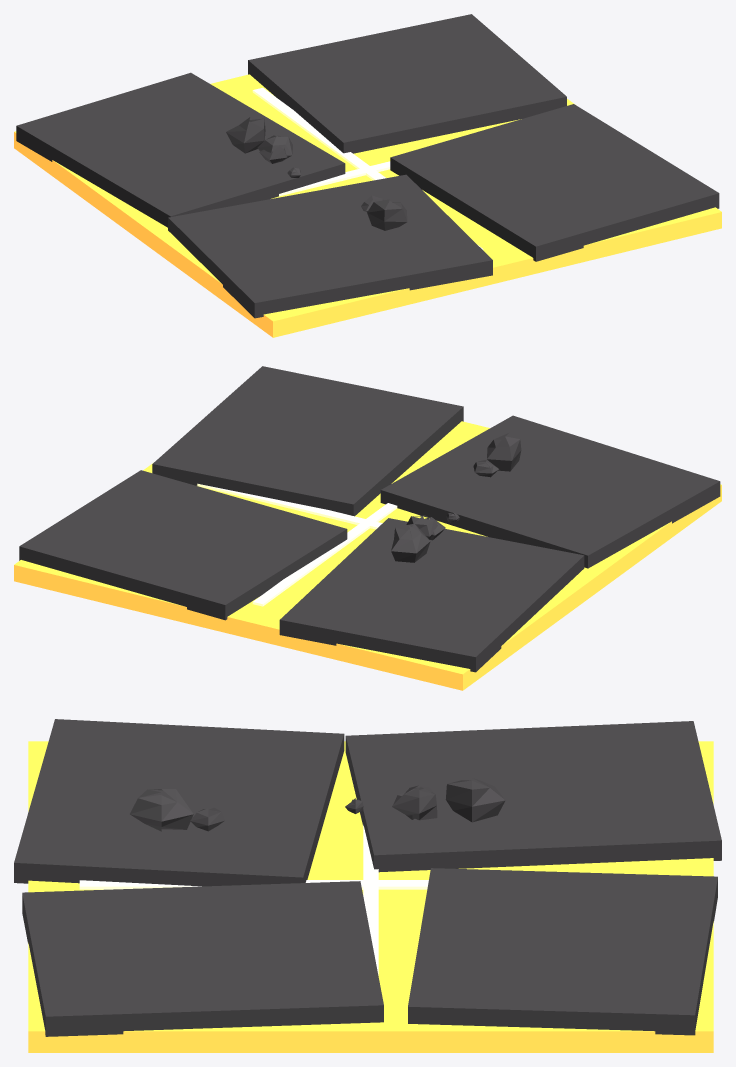
File: volcano-and-lava-fields-volcano-and-lava-fields-cracke-fb7e1254__37446.glb
The picture shows the model from 3 angles, top to bottom: view 1: azimuth 30°, elevation 25°; view 2: azimuth 150°, elevation 25°; view 3: azimuth 270°, elevation 25°; orthographic projection. The views are drawn at different scales.
Visible parts, largest first — view 1: volcano-and-lava-fields-cracked-lava-plate-with-glow-seam; view 2: volcano-and-lava-fields-cracked-lava-plate-with-glow-seam; view 3: volcano-and-lava-fields-cracked-lava-plate-with-glow-seam.
Boxes of the visible parts, x1,y1,x2,y2 form: volcano-and-lava-fields-cracked-lava-plate-with-glow-seam: (14, 14, 721, 337); volcano-and-lava-fields-cracked-lava-plate-with-glow-seam: (14, 366, 721, 690); volcano-and-lava-fields-cracked-lava-plate-with-glow-seam: (14, 719, 721, 1052).
Bounding box in the file's own units: 4.11 × 0.5362 × 4.13.
